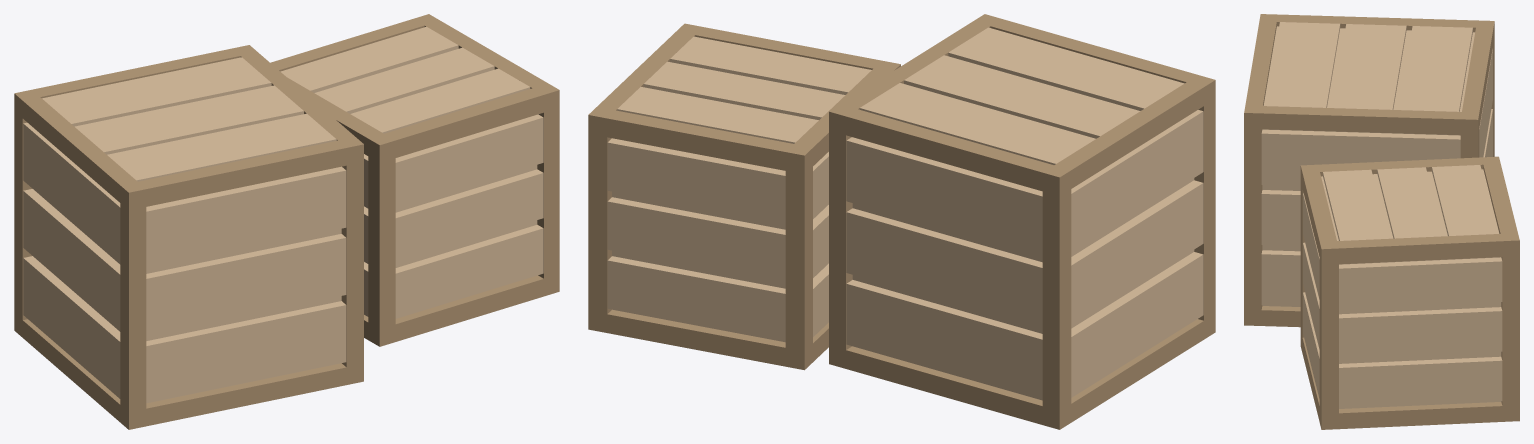
Rendered from crate.glb.
3 views of the same model, side by side, from view 1: azimuth 30°, elevation 25°; view 2: azimuth 150°, elevation 25°; view 3: azimuth 270°, elevation 25° (orthographic). The views are drawn at different scales.
Bounding box in the file's own units: 0.961 × 0.4686 × 0.5507.
